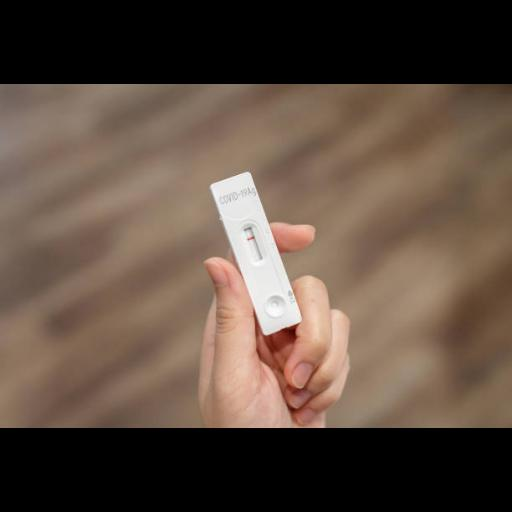Neg: (210, 170, 304, 335)
